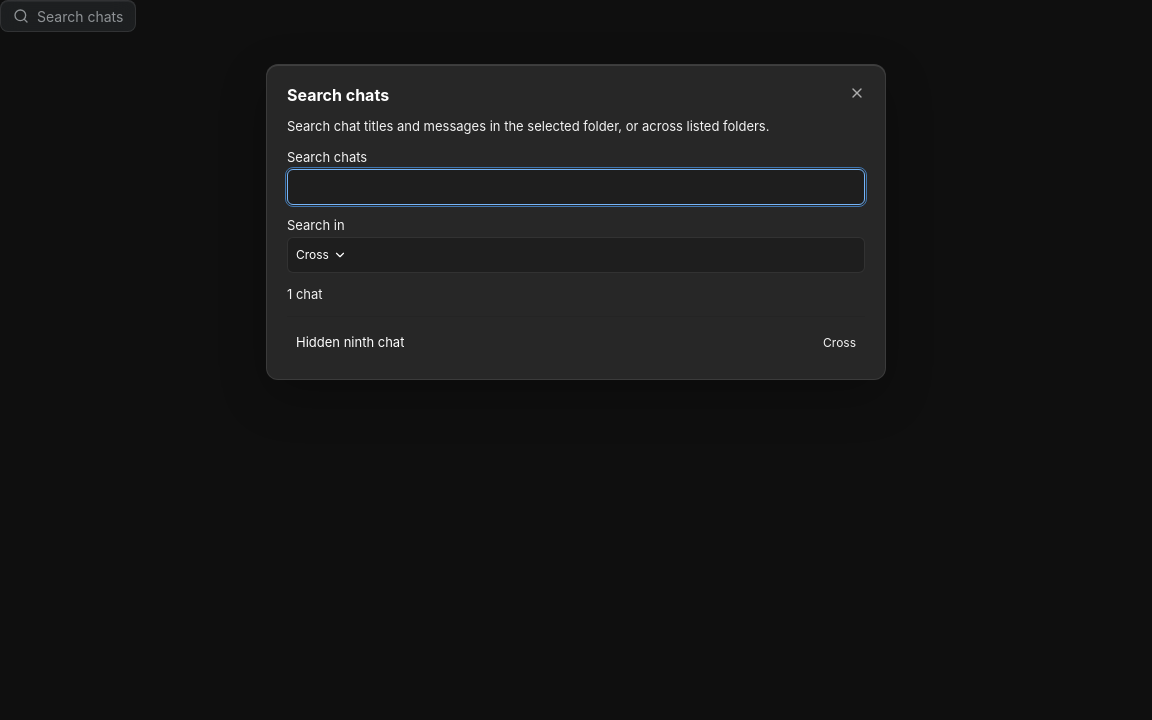
ChatSearchControl › opens an inactive project's hidden attached result through authoritative project activation
The image size is (1152, 720).
Click the option "Hidden ninth chat Cross".
click(350, 342)  # box 296,334 -> 856,350
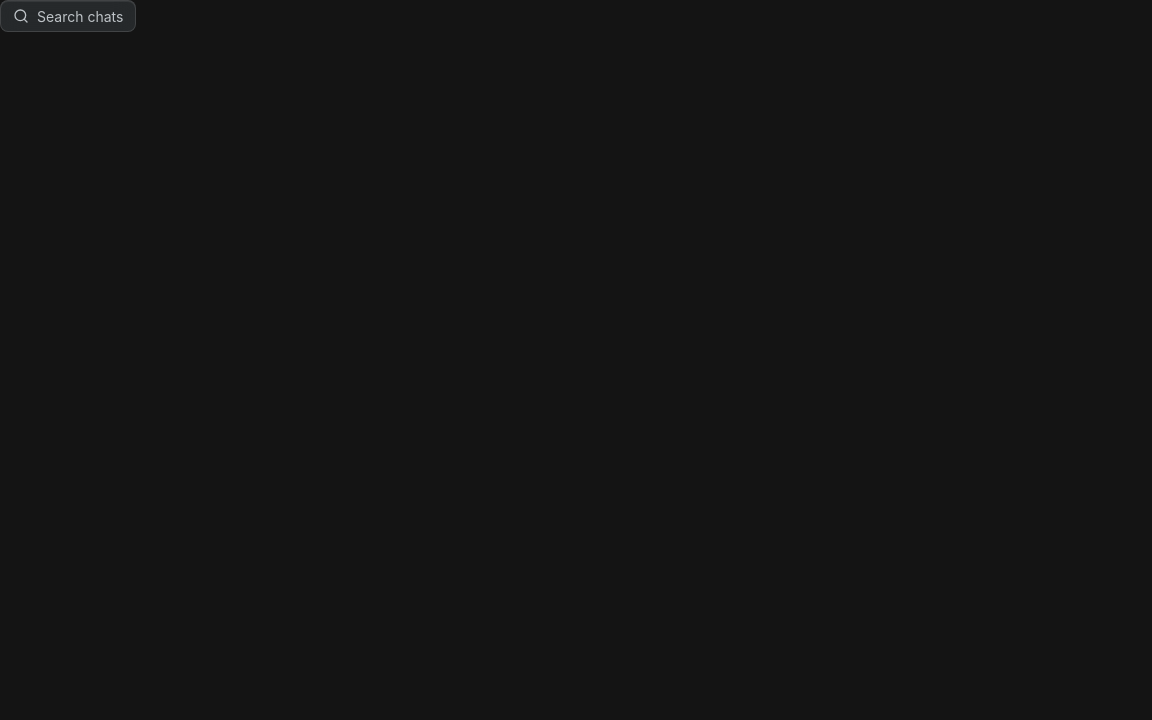
Expected: the message "1 chat" is gone
